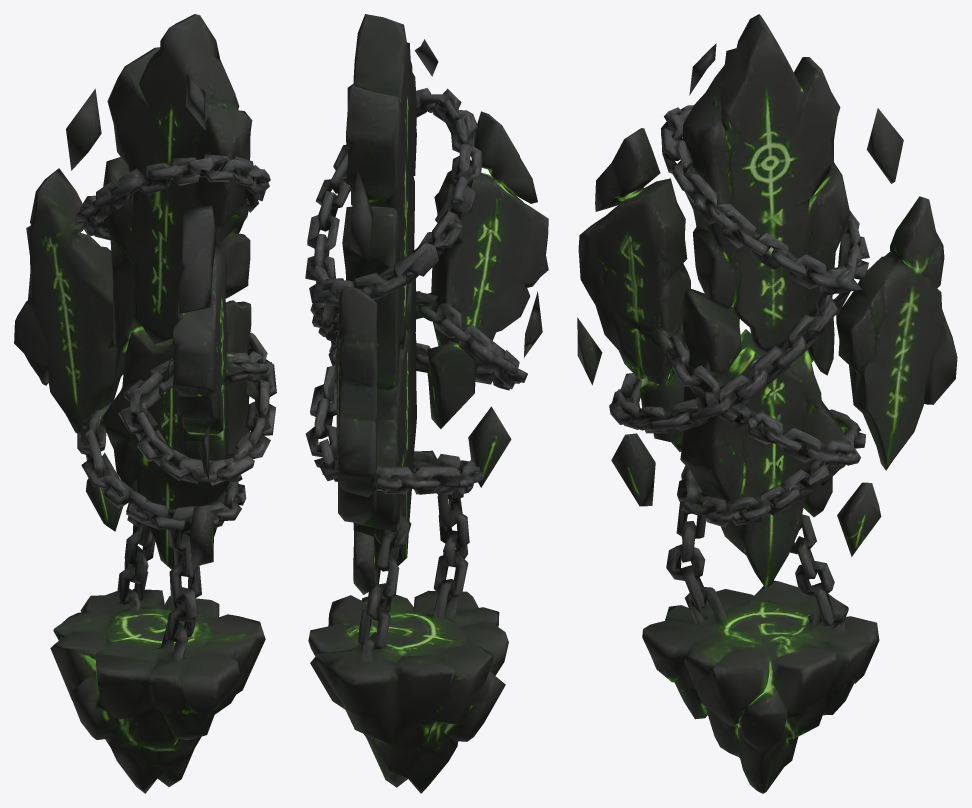
File: prop.glb
The picture shows the model from 3 angles, left to right: view 1: azimuth 30°, elevation 25°; view 2: azimuth 150°, elevation 25°; view 3: azimuth 270°, elevation 25°; orthographic projection. The views are drawn at different scales.
Visible parts, largest first — view 1: tripo_node_5fd90d75-7cc3-46b4-9822-6656339c4856; view 2: tripo_node_5fd90d75-7cc3-46b4-9822-6656339c4856; view 3: tripo_node_5fd90d75-7cc3-46b4-9822-6656339c4856.
Boxes of the visible parts, x1,y1,x2,y2 form: tripo_node_5fd90d75-7cc3-46b4-9822-6656339c4856: [14, 14, 276, 793]; tripo_node_5fd90d75-7cc3-46b4-9822-6656339c4856: [305, 14, 548, 793]; tripo_node_5fd90d75-7cc3-46b4-9822-6656339c4856: [577, 14, 957, 793].
Bounding box in the file's own units: 0.2532 × 1 × 0.4395.
Materials: 1 (1 with a texture image).
